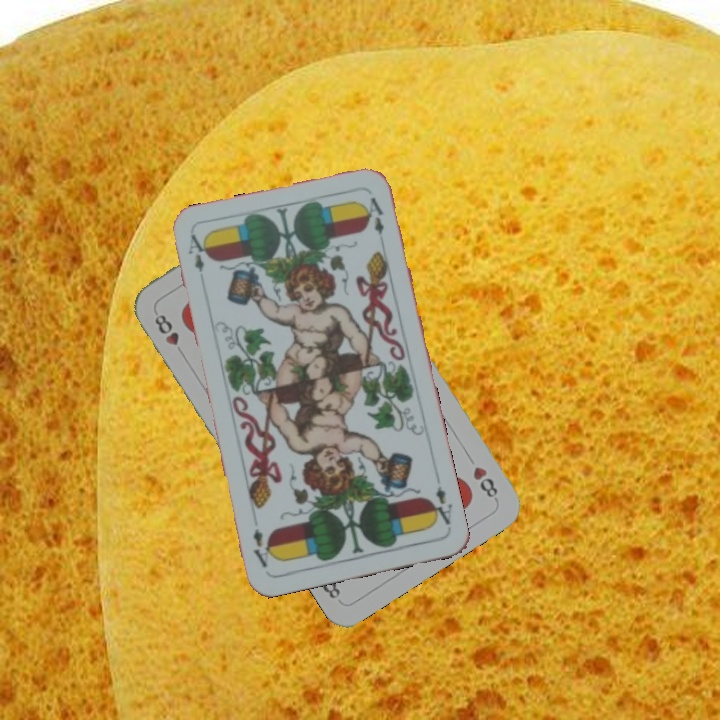EA: (425, 482, 455, 528), (184, 230, 209, 275)
H8: (150, 310, 188, 360), (469, 462, 501, 504)
